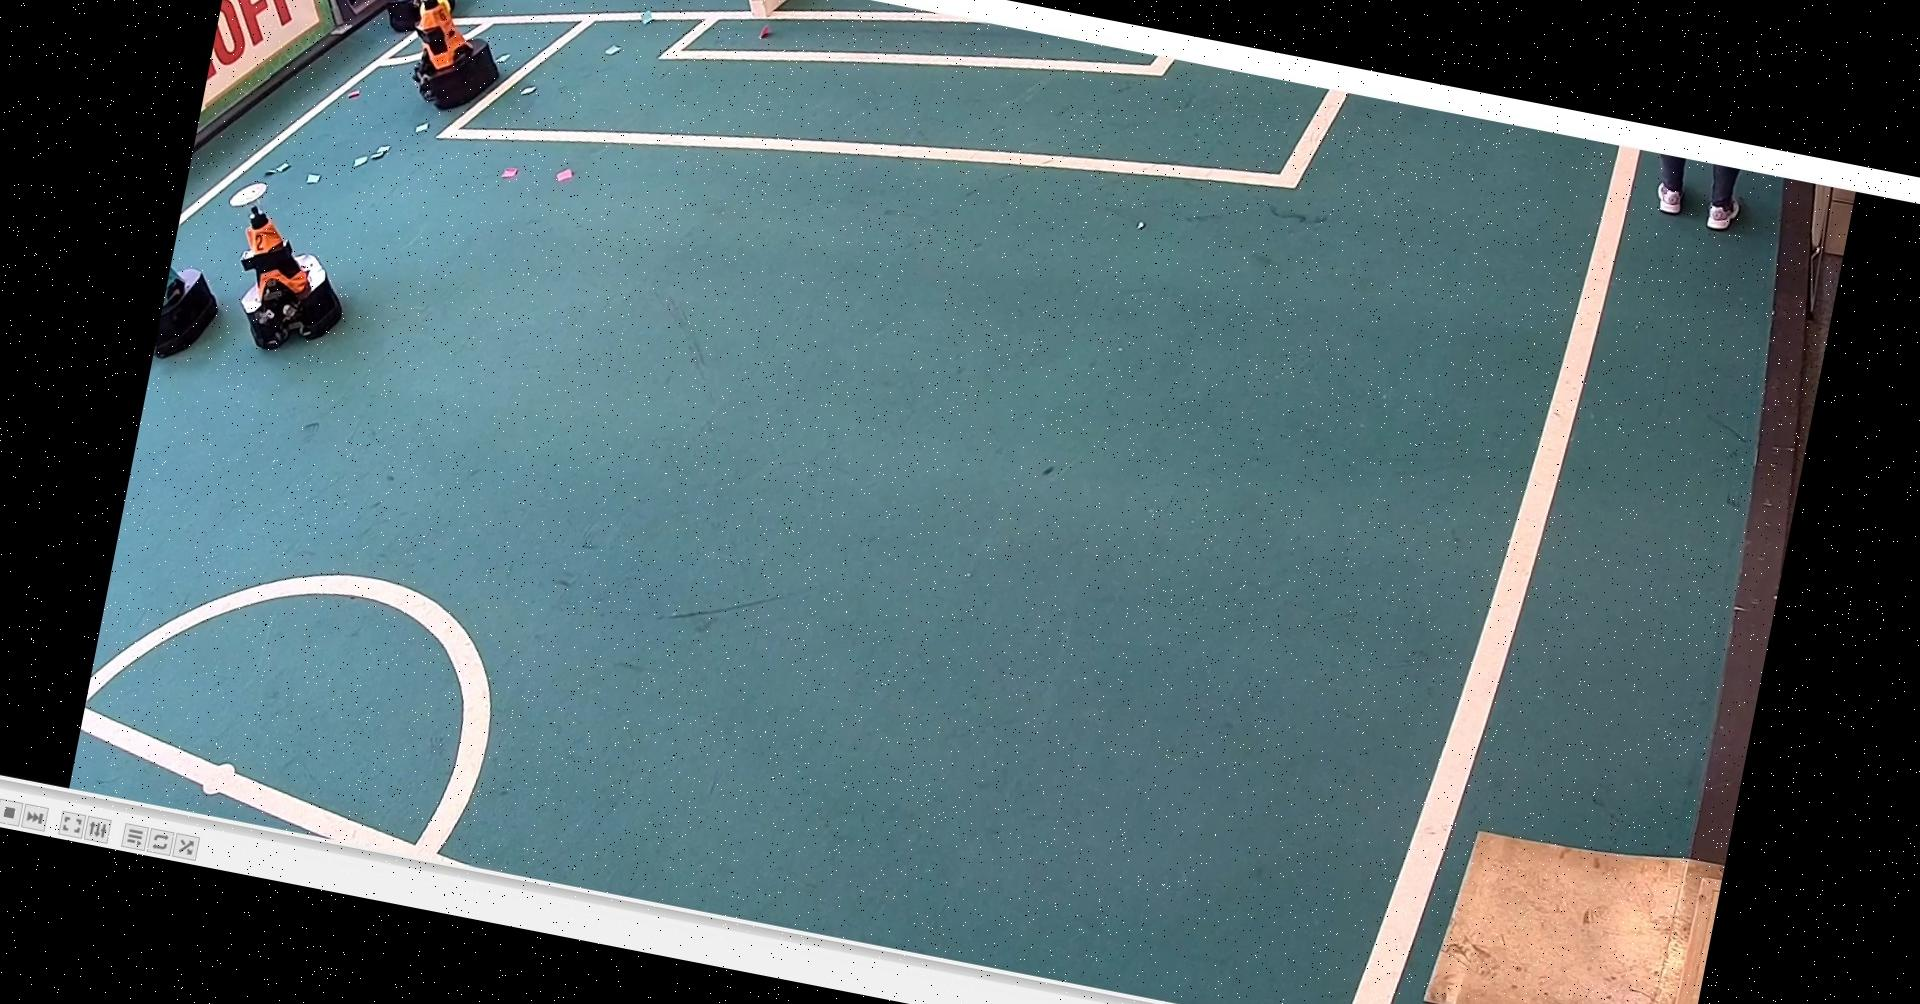Ball: (409, 0, 461, 29)
Team_Blue: (357, 0, 488, 44)
Team_Red: (202, 165, 371, 355), (385, 0, 524, 121)
